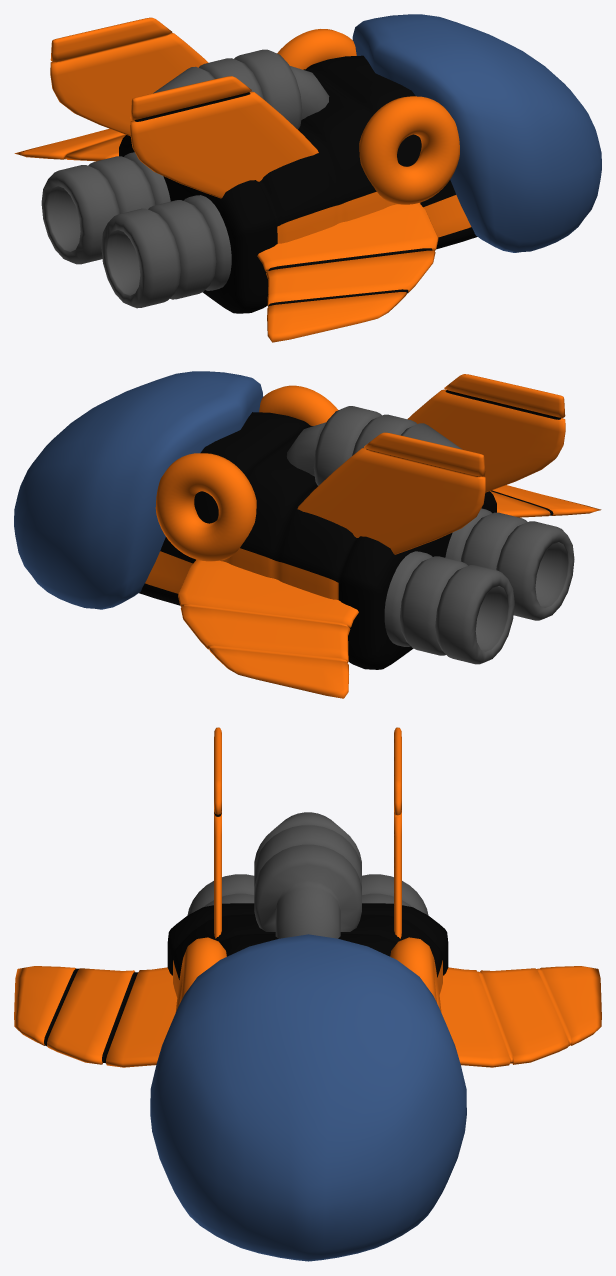
File: Player.glb
The picture shows the model from 3 angles, top to bottom: view 1: azimuth 30°, elevation 25°; view 2: azimuth 150°, elevation 25°; view 3: azimuth 270°, elevation 25°; orthographic projection. The views are drawn at different scales.
Visible parts, largest first — view 1: nave; view 2: nave; view 3: nave.
Part boxes in pixels (<box>): nave: <box>14,14,601,342</box>; nave: <box>14,371,601,698</box>; nave: <box>14,727,601,1261</box>.
Size of the model in its own units: 4.65 by 2.16 by 4.2.
